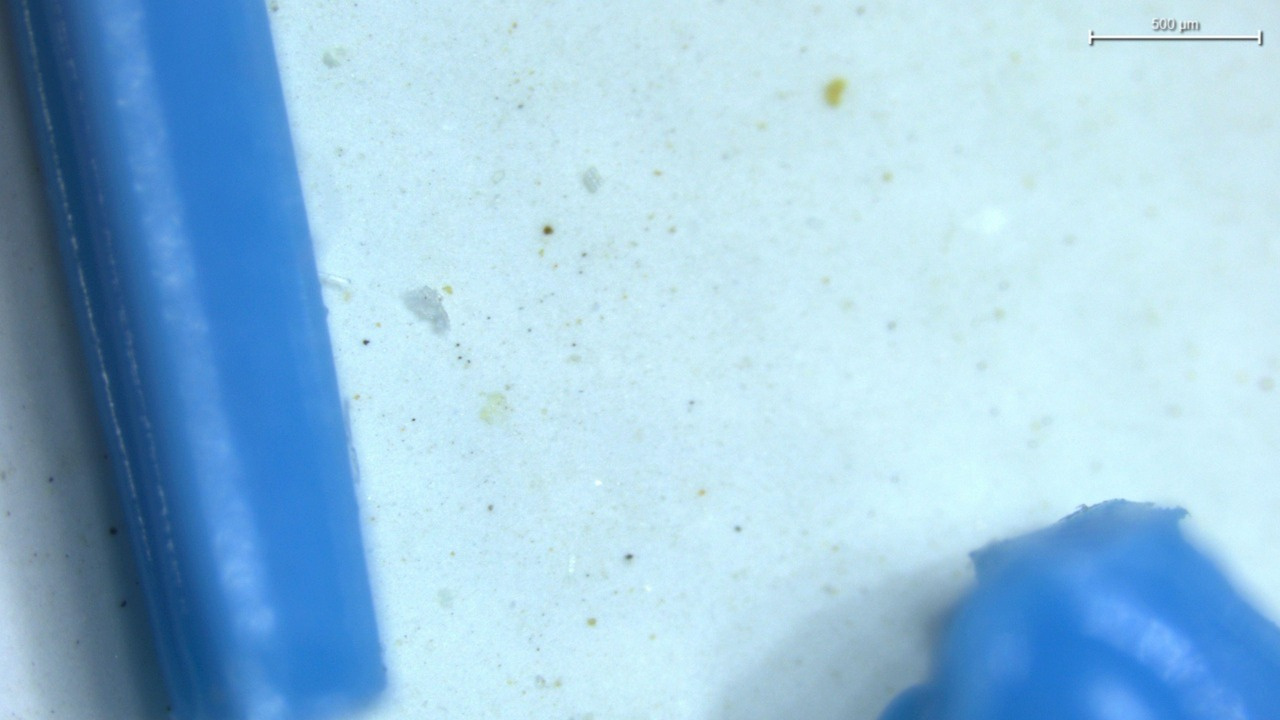microplastic_fragment: (402, 286, 450, 334)
